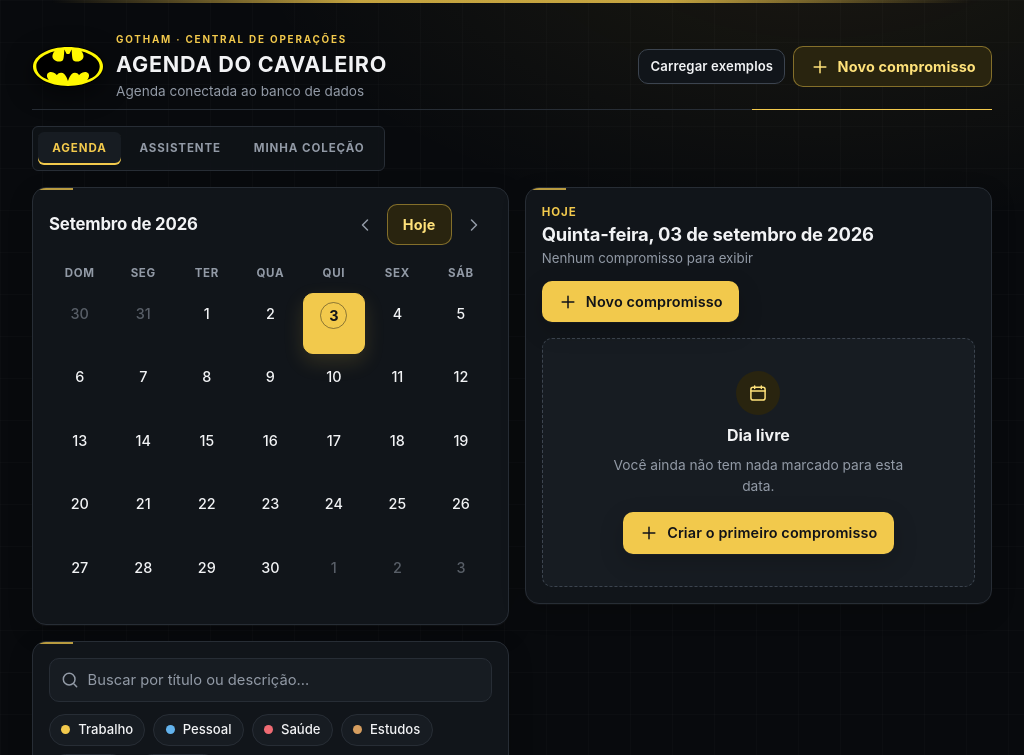
Test case: validações do formulário › bloqueia término anterior ou igual ao início
Click the button "Novo compromisso" in the row of "Agenda do Cavaleiro" at (893, 67), box left=793, top=46, right=992, bottom=87
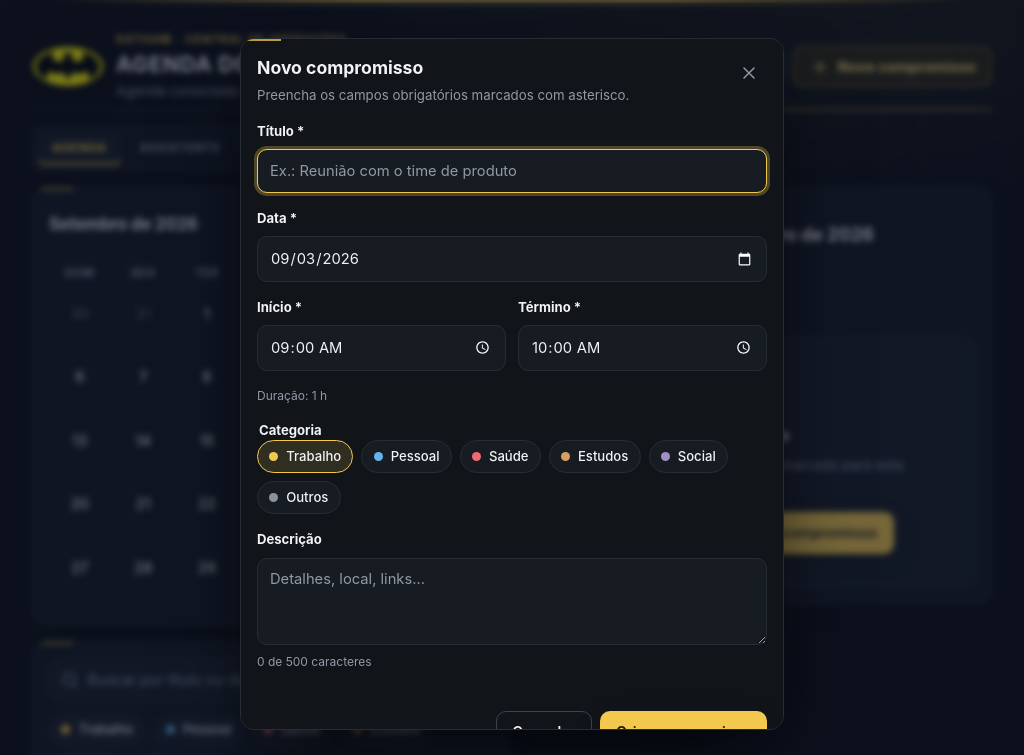
Type "Intervalo inválido" into the field labelled "Título *" at (512, 171), box left=257, top=149, right=767, bottom=193
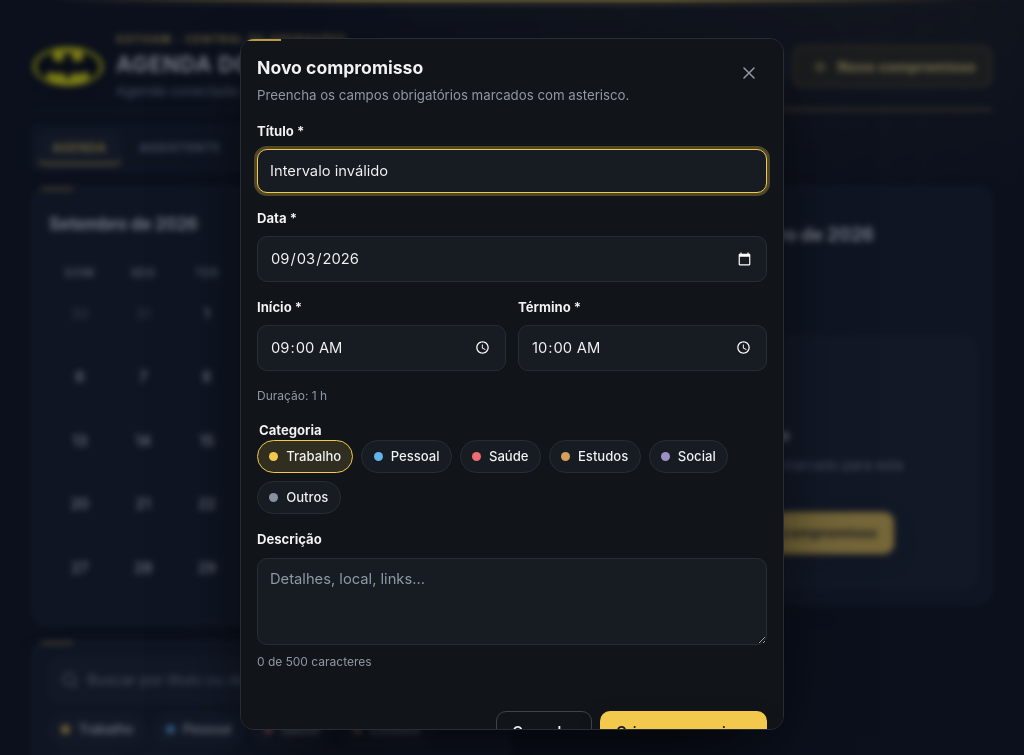
Replace the text in the time field labelled "Início *" with "15:00" at (382, 348), box left=257, top=325, right=506, bottom=371
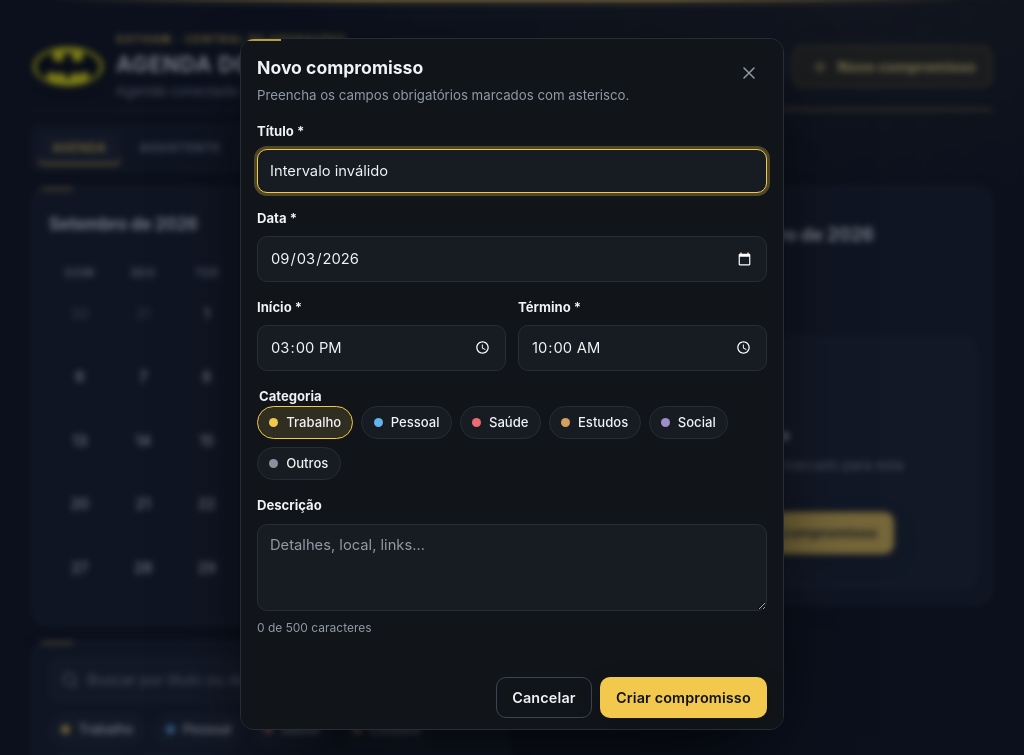
Replace the text in the time field labelled "Término *" with "14:00" at (642, 348), box left=518, top=325, right=767, bottom=371
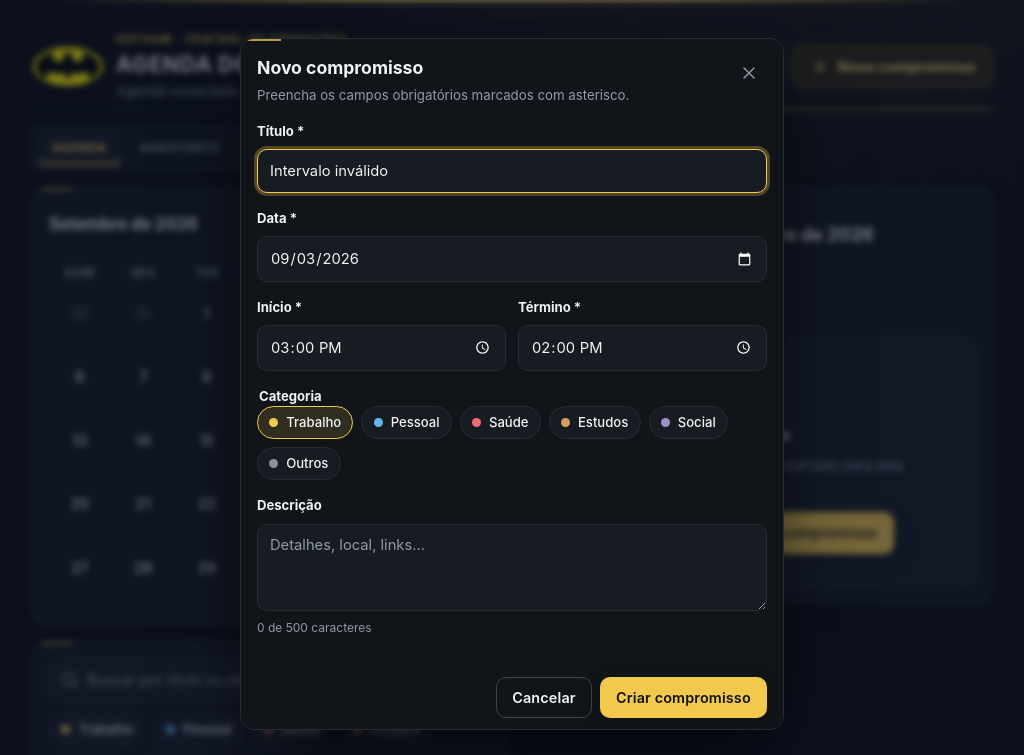
Click the button "Criar compromisso" at (683, 698), box left=600, top=677, right=767, bottom=718
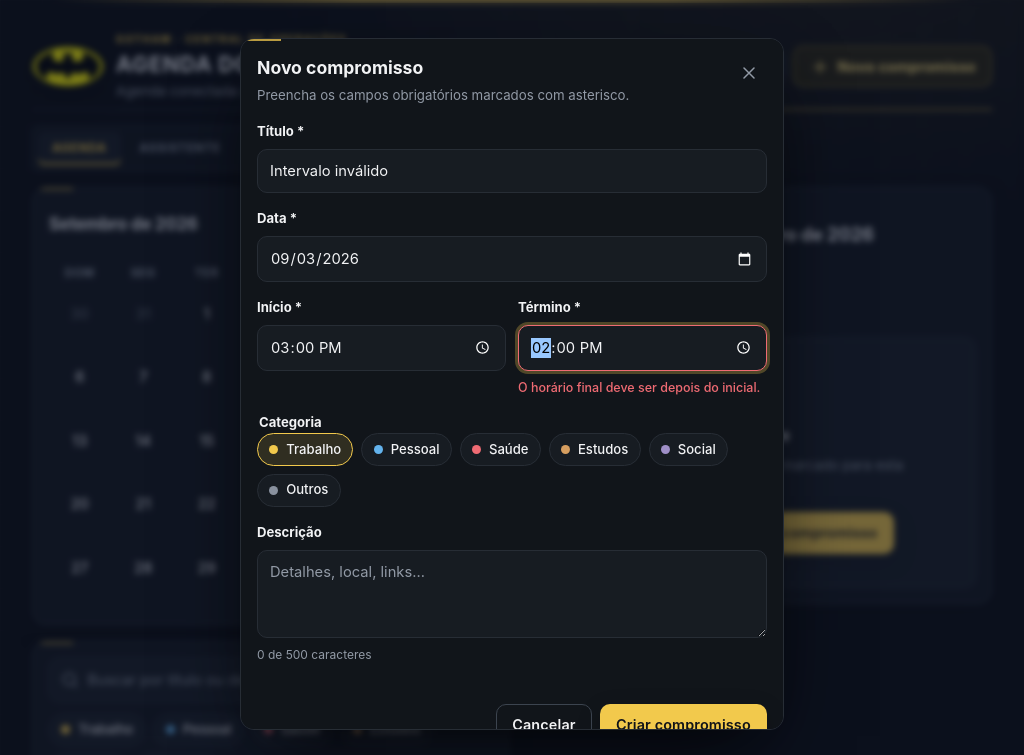
expect the text "O horário final deve ser depois do inicial." is shown: met, box left=518, top=379, right=767, bottom=397
